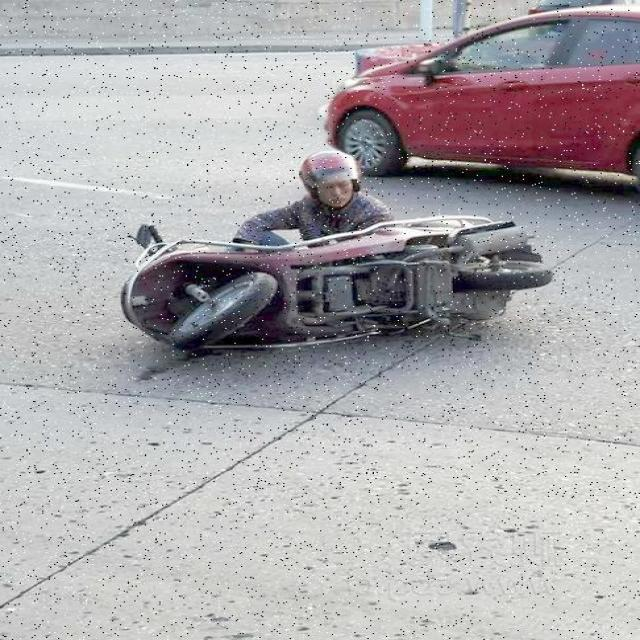fall: (198, 154, 387, 247)
